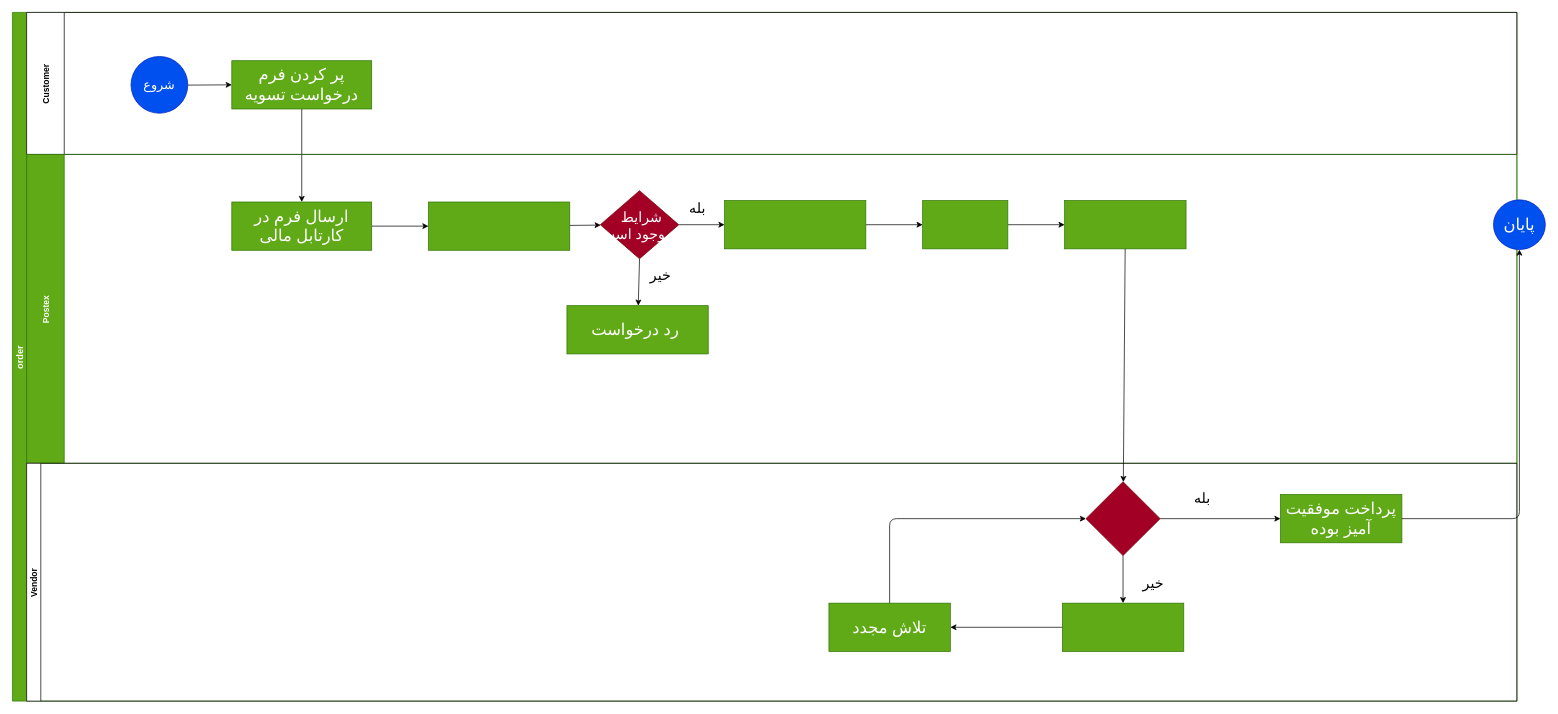
Some shapes in this 1558 by 714 pixel diagram are drawn without their labels. Each missing label, with the centre of its shape:
ایجاد اکسل: point (965, 224)
بررسی فرم: point (499, 225)
برگرداندن خطا: point (1123, 626)
تایید درخواست: point (795, 224)
پرداخت به شماره شبا: point (1125, 224)
پرداخت موفقیت آمیز بود: point (1122, 518)
